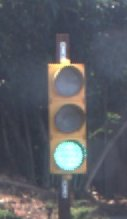Green: (46, 56, 93, 180)
